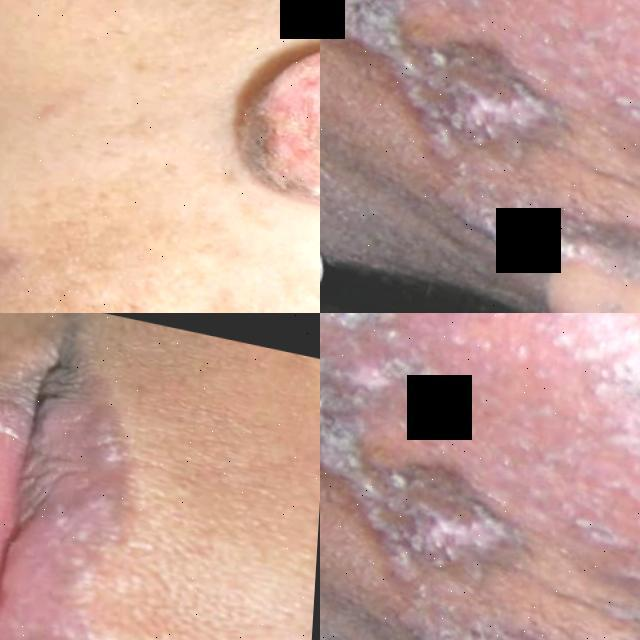lupus-detected: (320, 313, 640, 616), (0, 313, 193, 640), (320, 0, 640, 194), (0, 152, 308, 313), (234, 0, 320, 281), (509, 186, 640, 313)
